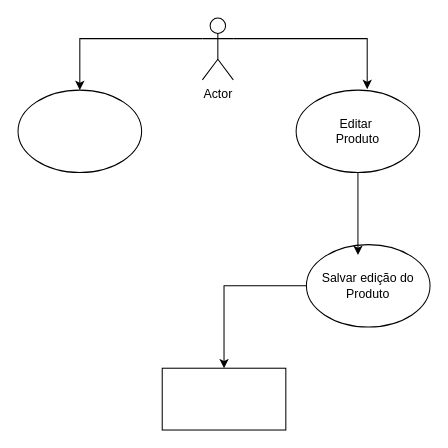
Some shapes in this 448 by 448 pixel diagram are drawn without their labels. Here are the shapes that lost their labels. From the top down, the centre of each, then its label:
At pixel 79 131: "Adicionar Porduto".
At pixel 223 398: "Visualizar produto na API".
